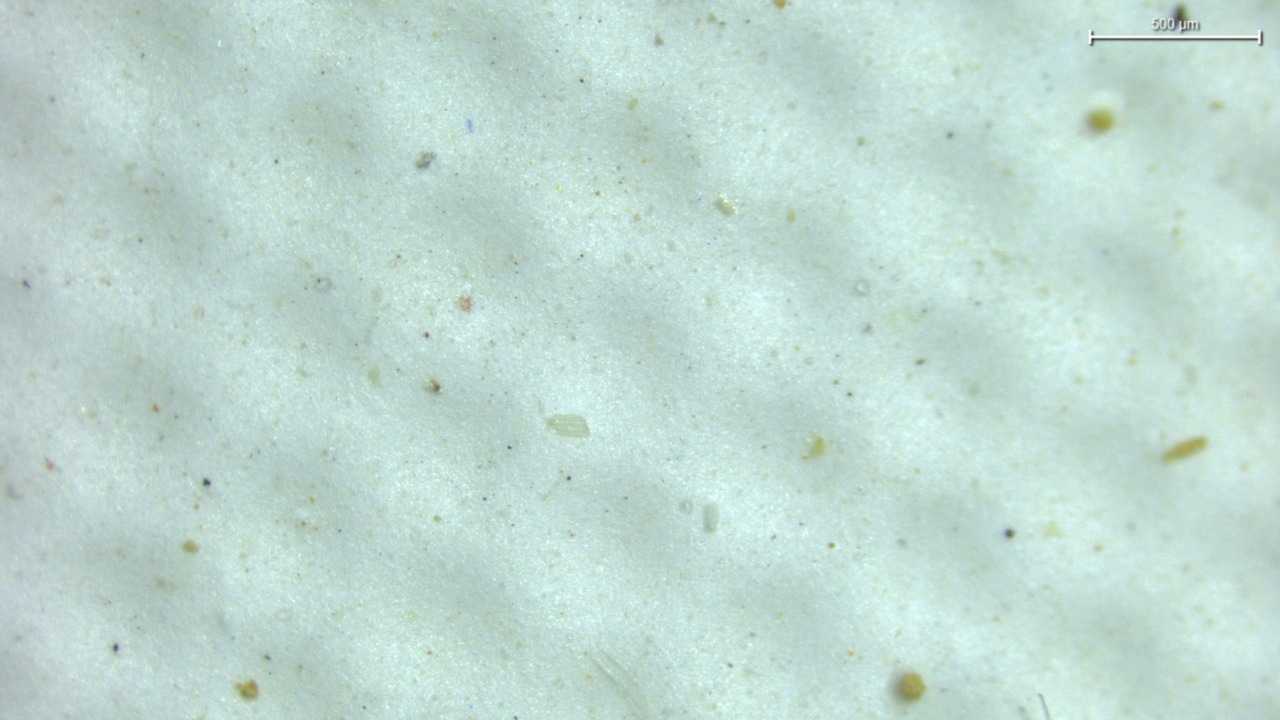microplastic_fragment: (546, 414, 589, 438)
